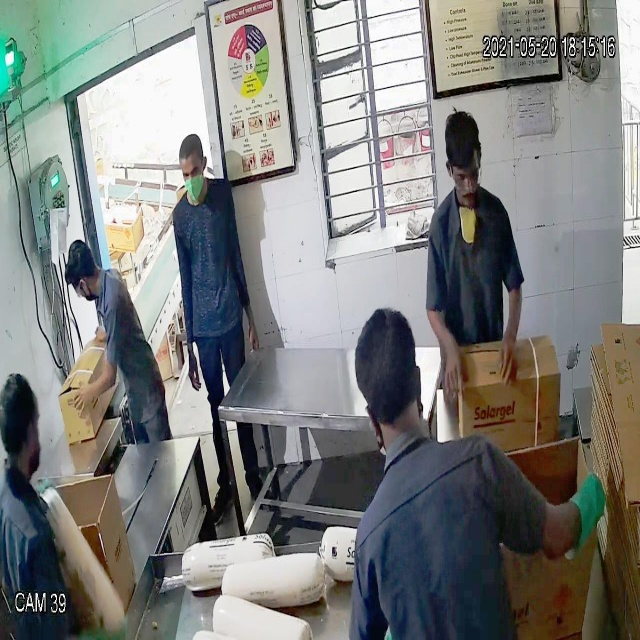Gafas: (446, 158, 483, 193)
Sin_gafas: (179, 162, 204, 180)
